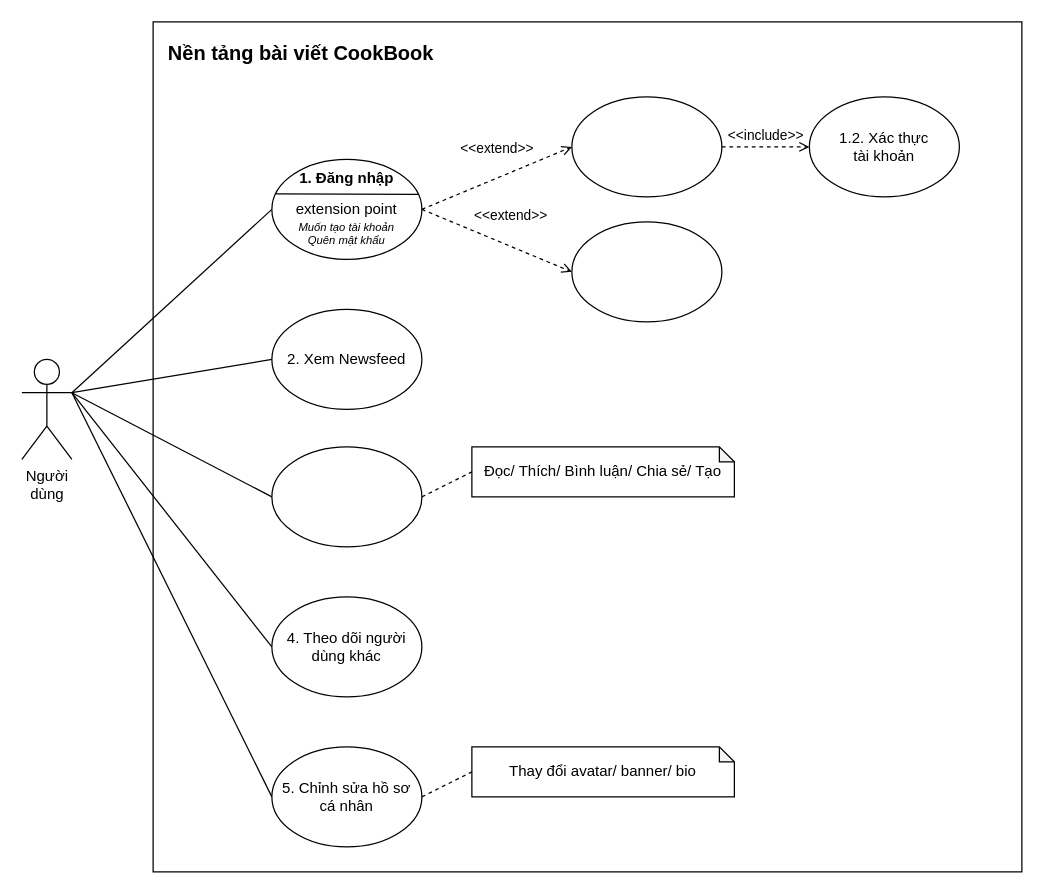
Some shapes in this 1044 by 894 pixel diagram are drawn without their labels. The shapes that lost their labels are listed below. From the top down, each one's box as (x1, y1, x2, y2) in pixels, then its label:
(571, 96, 722, 197): 1.1. Tạo tài khoản
(571, 221, 722, 322): 1.3. Quên mật khẩu
(271, 446, 422, 547): 3. Tương tác với bài viết
